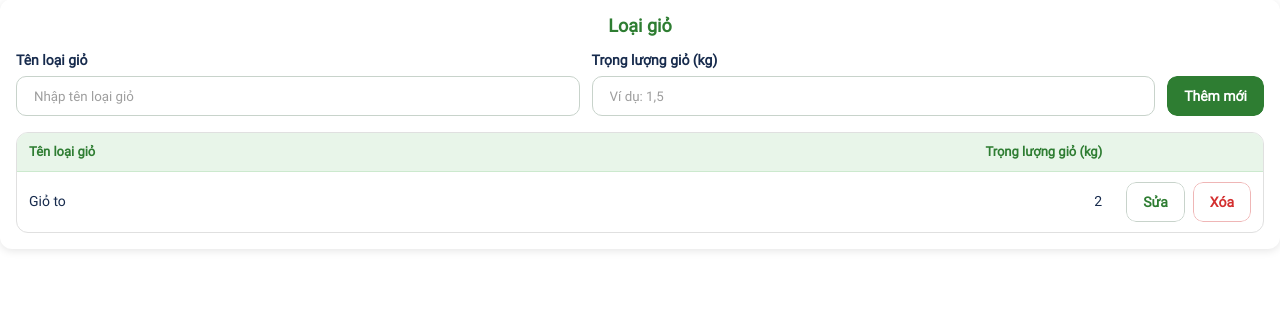
Scenario: trọng lượng  không hợp lệ: không gọi API
In the field with id "basketType-new-basketName": (298, 96) [18,78,579,114], type "Giỏ vừa"
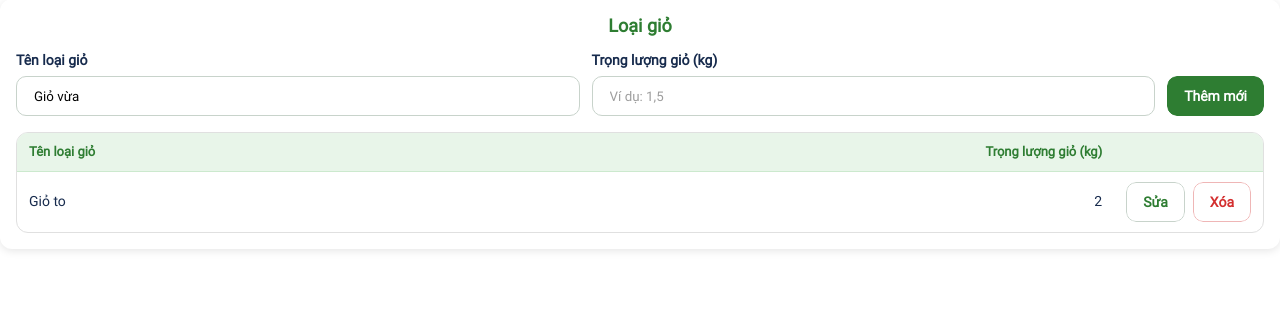
Click the button "Thêm mới": (1216, 96) [1167,76,1264,116]
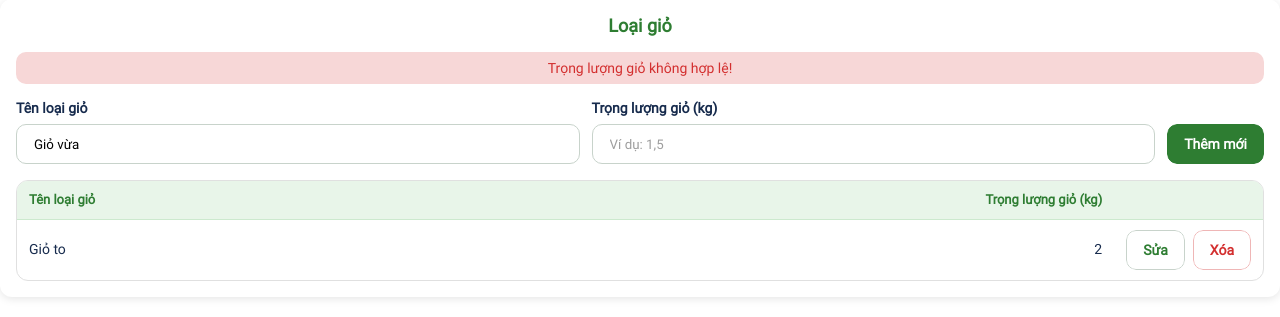
Check: the text with class "error-message" reads "Trọng lượng giỏ không hợp lệ!", box [548,60,732,76]
